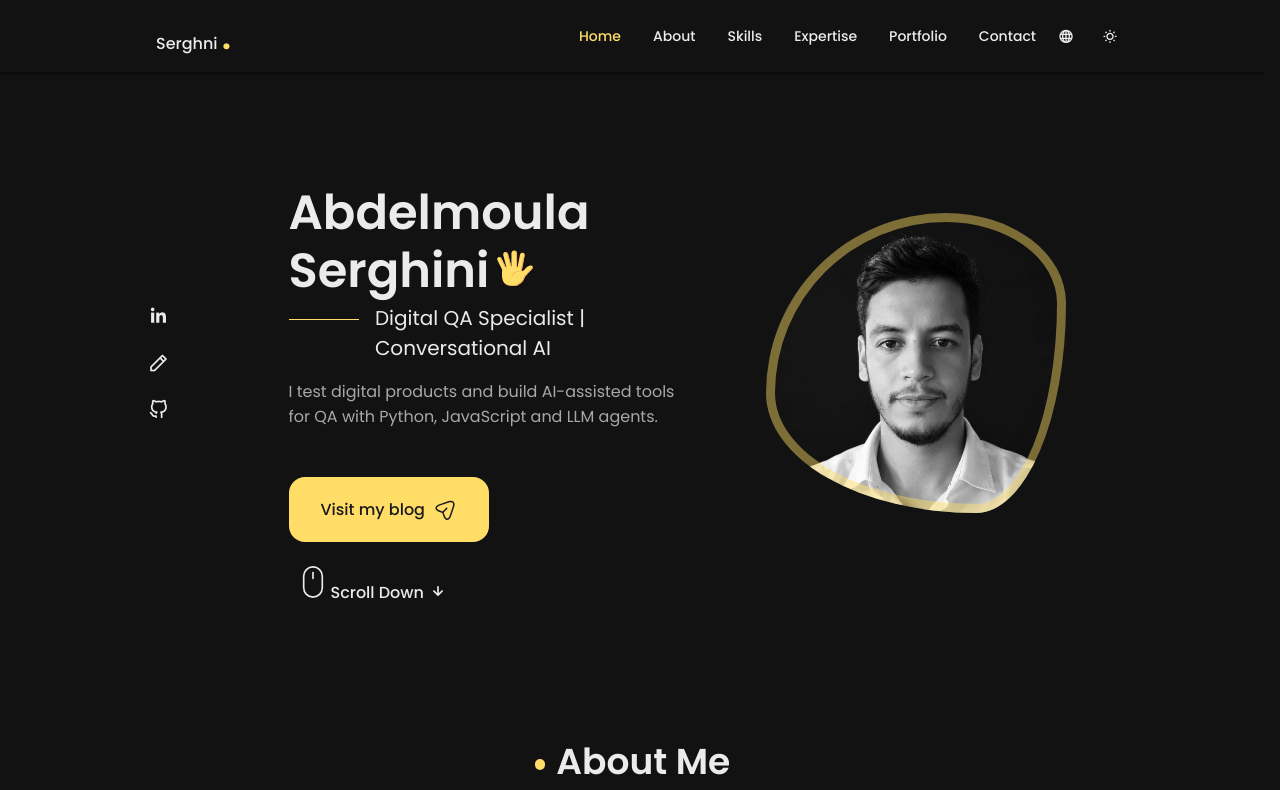
links between the portfolio and the blog
Click the link "Visit my blog" at (389, 510), box [288,477,489,542]
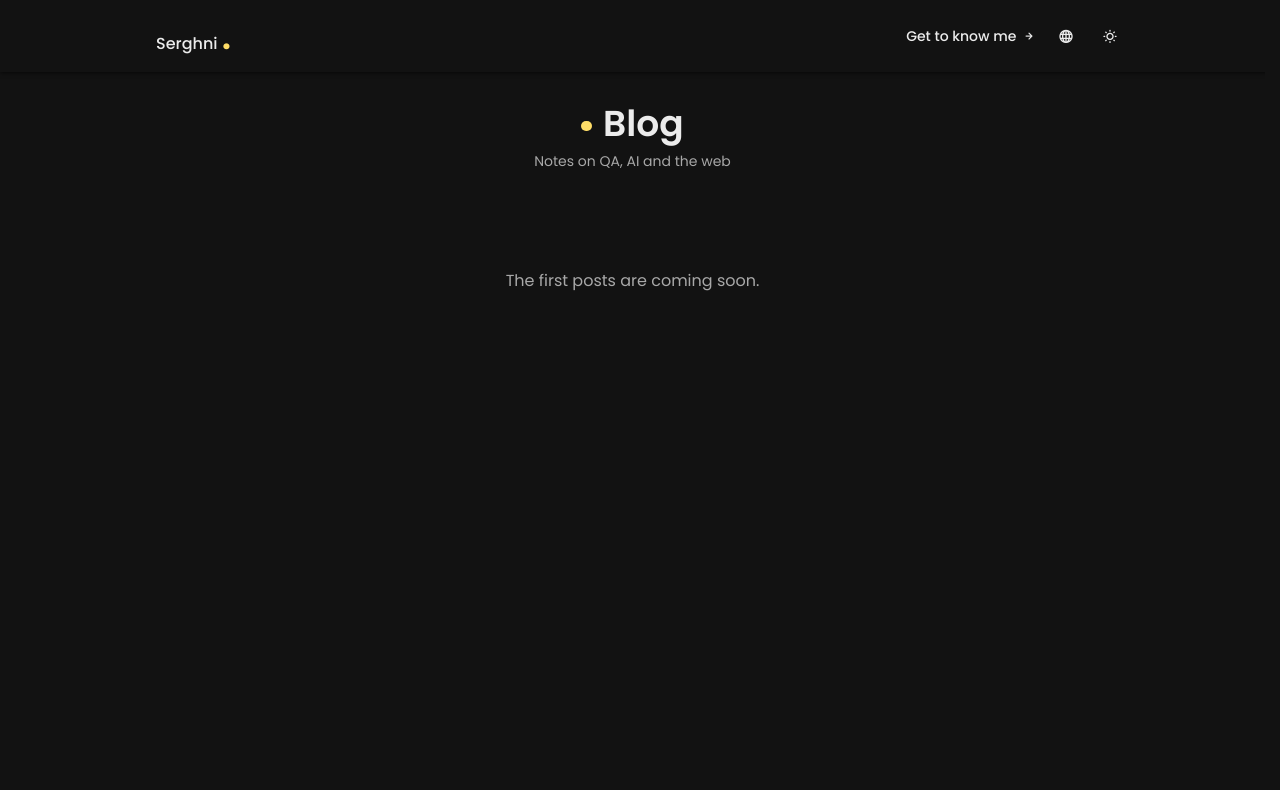
Expected: the heading "Blog" is shown, [603,98,684,149]
Click the link "Get to know me" at (971, 36), box [906,26,1036,46]
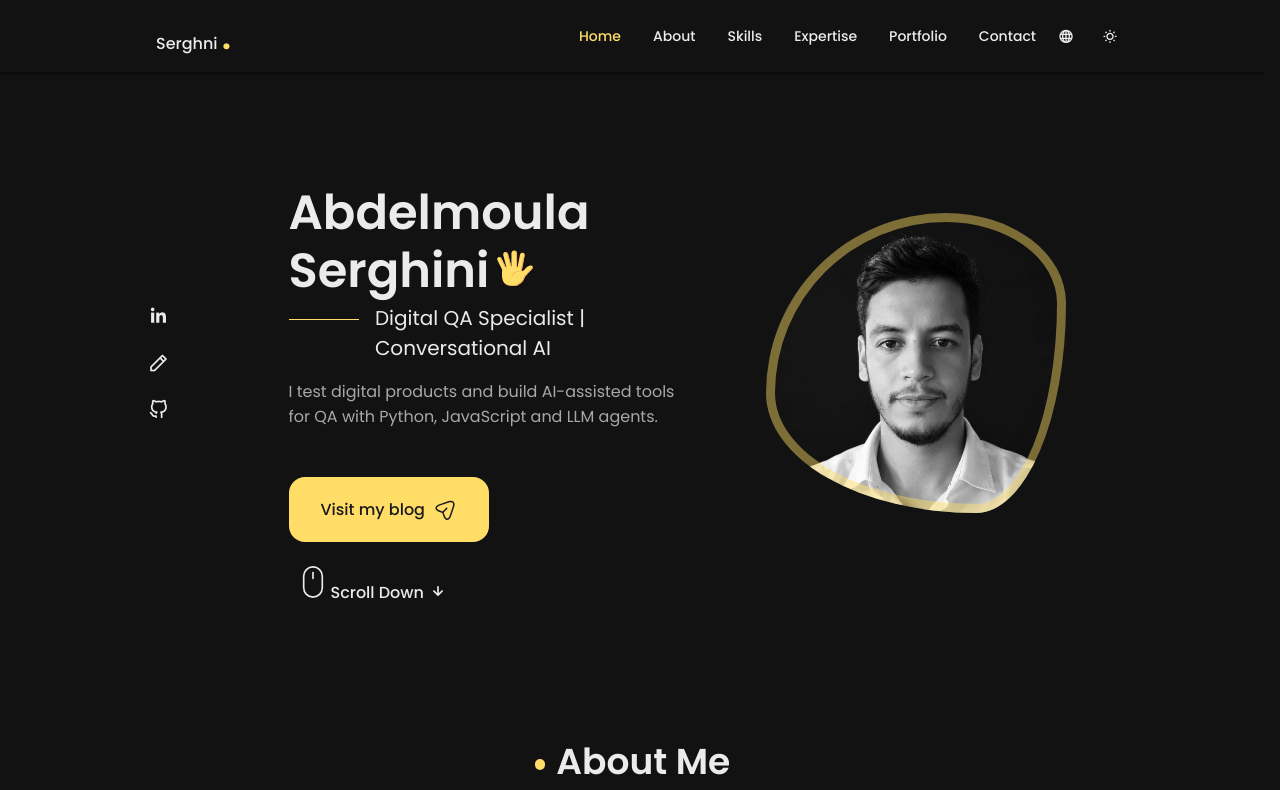
Now the heading "About Me" is shown, box [556,736,730,787]
